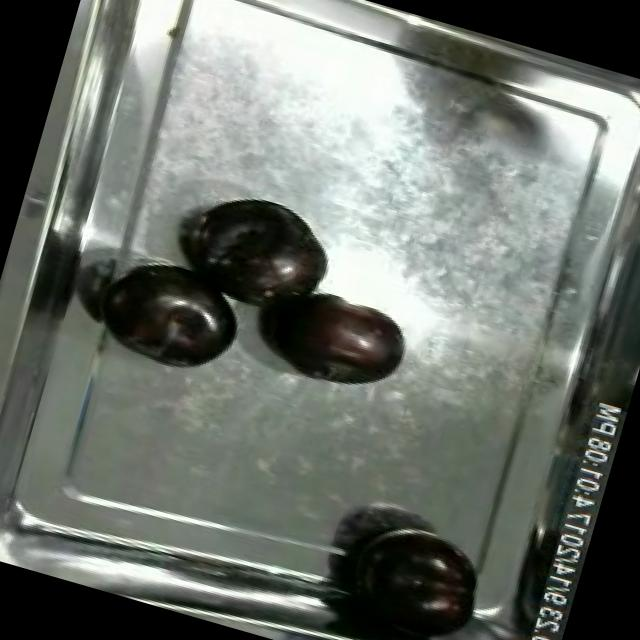Fruit: (172, 176, 348, 322), (85, 244, 258, 390), (245, 271, 422, 408), (344, 507, 501, 637)
